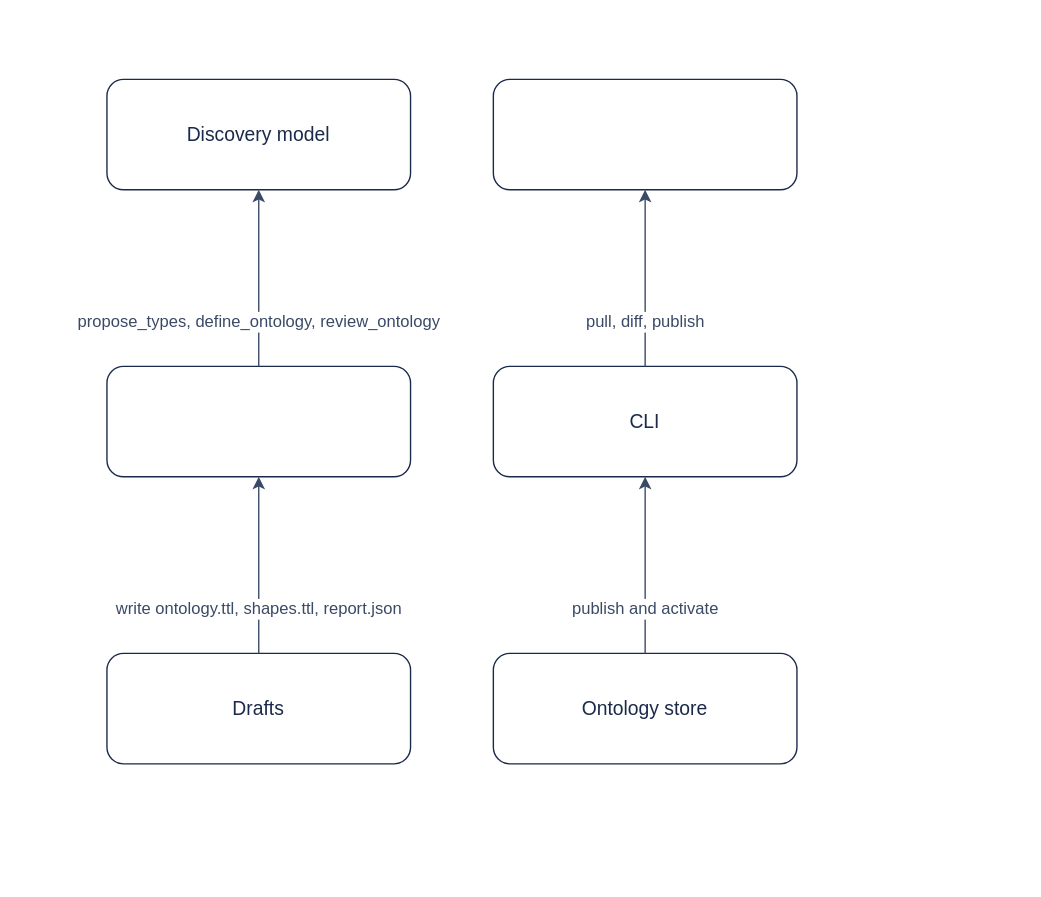
This 1041x897 diagram has some shape labels left out. Each missing label, with the centre of its shape:
"Curator" belongs at (x=644, y=134).
"Sweep" belongs at (x=258, y=421).
